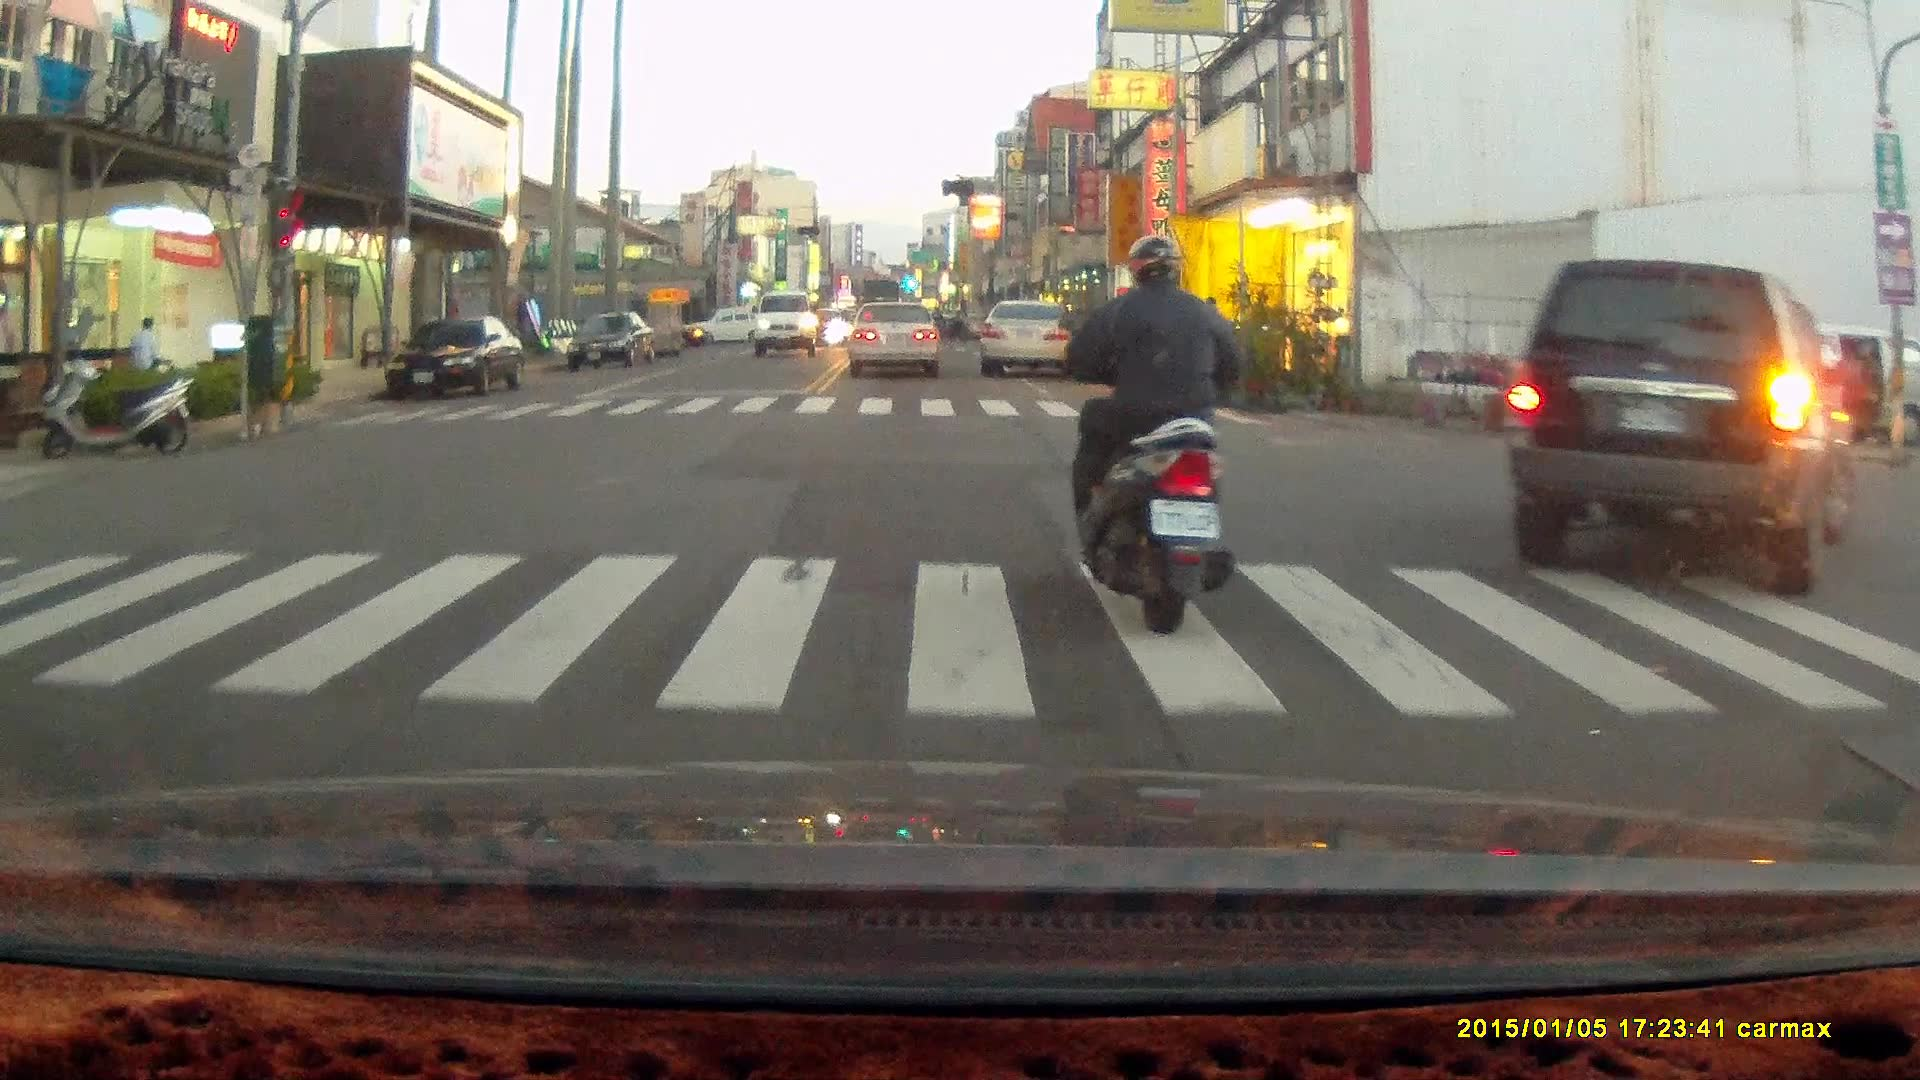pedestrian: (127, 314, 164, 383), (1856, 346, 1881, 437)
rider: (1059, 230, 1235, 630)
vehicle: (1503, 264, 1844, 592), (1748, 323, 1920, 451), (388, 313, 522, 406), (977, 297, 1084, 379), (847, 300, 942, 375), (565, 308, 656, 370), (755, 288, 820, 357)
